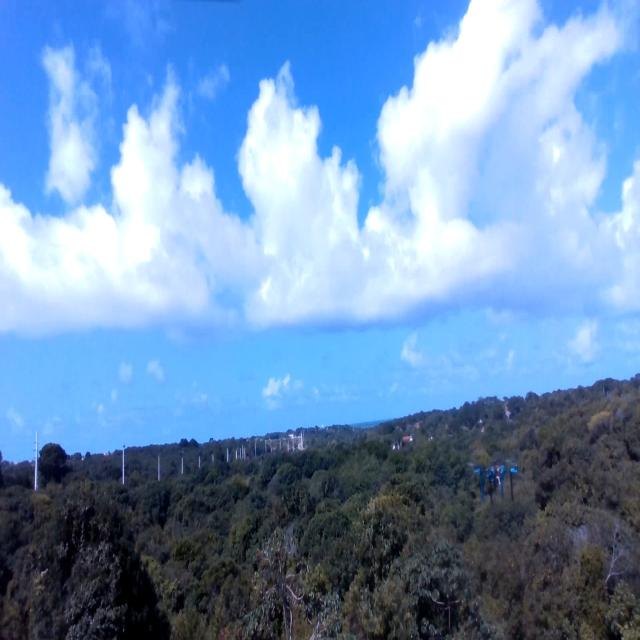-uav-: (469, 439, 525, 511)
